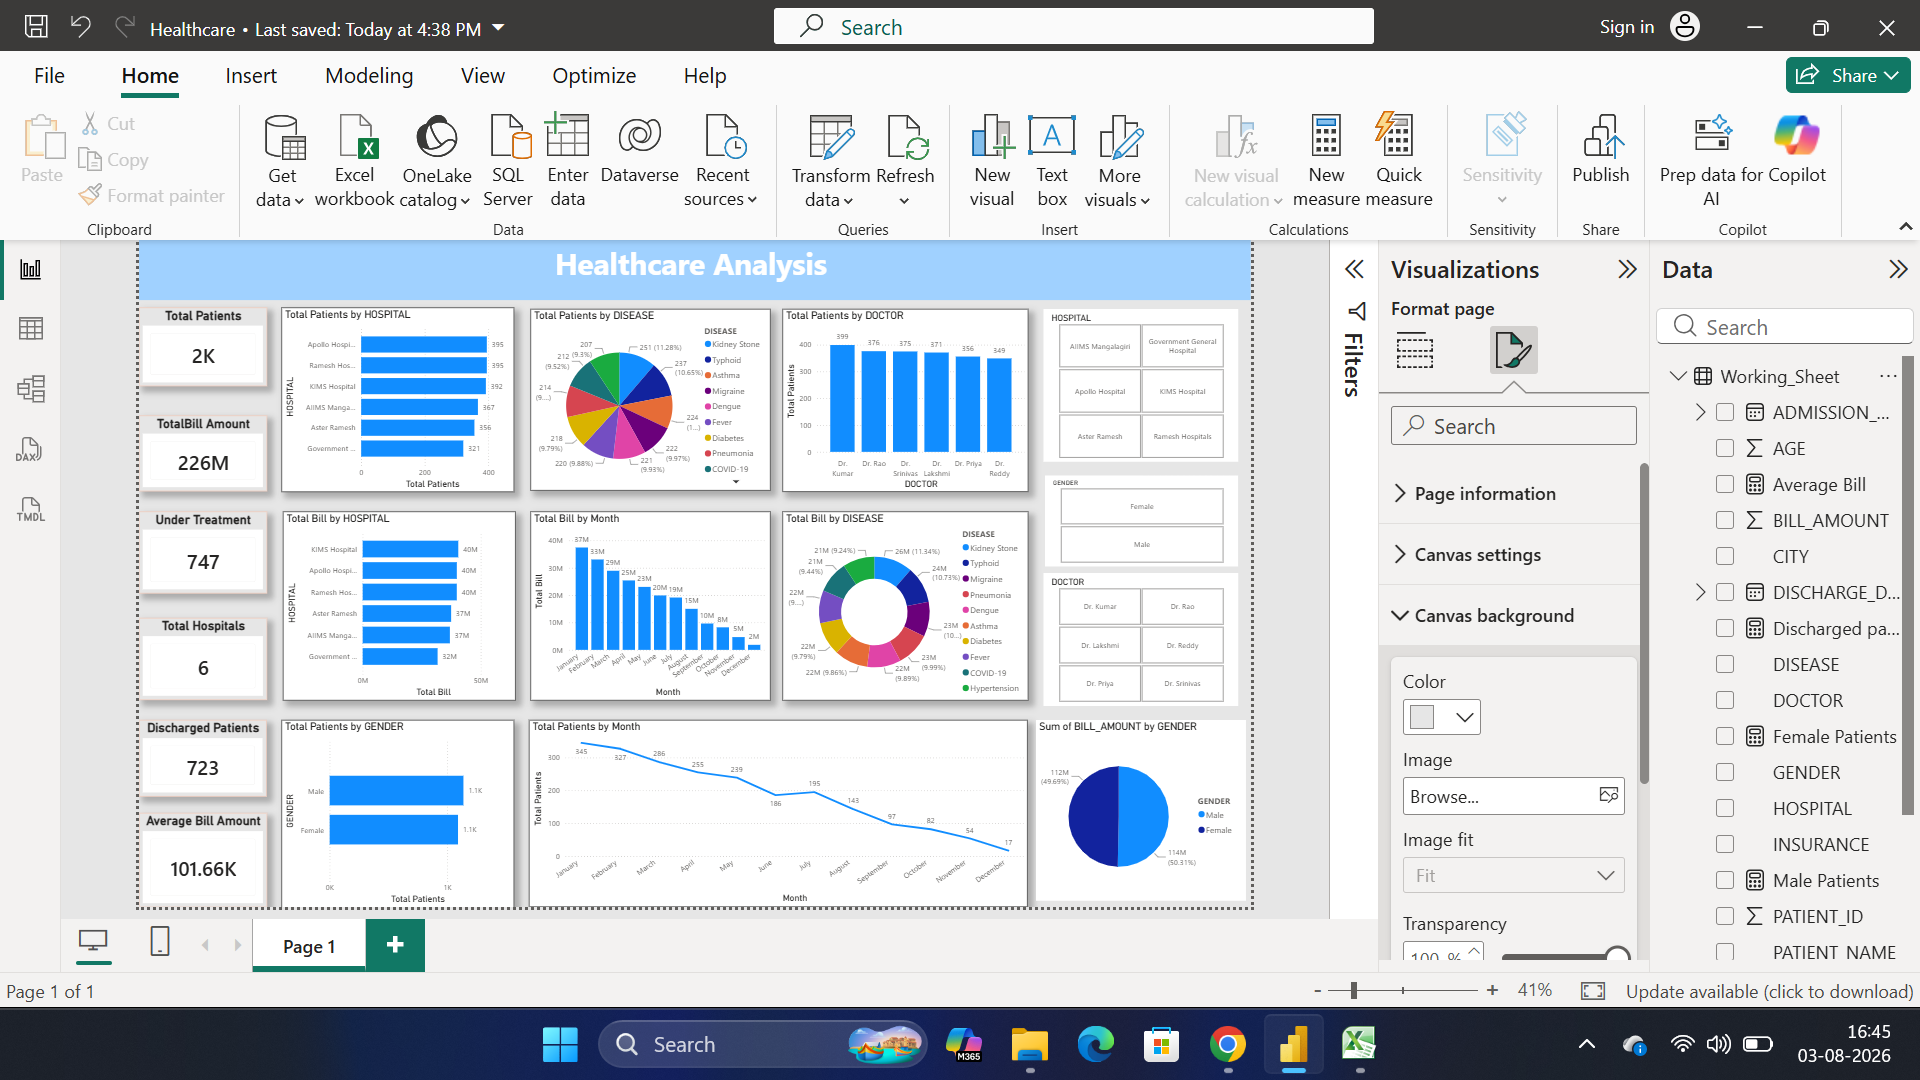

What the dashboard file says about the page in this screenshot:
{"tool":"powerbi","page":{"name":"Page 1","canvas":[1800,1080],"ordinal":0},"visuals":[{"type":"textbox","box":[0,0,1800,97.5],"z":0},{"type":"cardVisual","title":"Total Patients","fields":{"Data":["Working_Sheet.Total Patients"]},"box":[0,110,207.5,127.5],"z":1000},{"type":"cardVisual","title":"TotalBill Amount","fields":{"Data":["Working_Sheet.Total Bill"]},"box":[0,285,207.5,122.5],"z":2000},{"type":"cardVisual","title":"Total Hospitals","fields":{"Data":["Count(Working_Sheet.HOSPITAL)"]},"box":[0,612.5,207.5,132.5],"z":3000},{"type":"cardVisual","title":"Under Treatment","fields":{"Data":["Working_Sheet.Under Treatment"]},"box":[0,440,207.5,132.5],"z":4000},{"type":"barChart","fields":{"Category":["Working_Sheet.HOSPITAL"],"Y":["Working_Sheet.Total Patients"]},"box":[230.7,109.3,376.5,298.7],"z":5000},{"type":"donutChart","fields":{"Category":["Working_Sheet.DISEASE"],"Y":["Working_Sheet.Total Bill"]},"box":[1042,439.6,398.3,306],"z":6000},{"type":"clusteredColumnChart","fields":{"Category":["Working_Sheet.DOCTOR"],"Y":["Working_Sheet.Total Patients"]},"box":[1042,111.7,398.3,296.3],"z":7000},{"type":"lineChart","fields":{"Category":["Working_Sheet.ADMISSION_DATE.Variation.Date Hierarchy.Month"],"Y":["Working_Sheet.Total Patients"]},"box":[632.5,777.5,807.5,302.5],"z":8000},{"type":"cardVisual","title":"Discharged Patients","fields":{"Data":["Working_Sheet.Discharged patients"]},"box":[0,777.2,206.5,123.9],"z":9000},{"type":"pieChart","fields":{"Y":["Working_Sheet.Total Patients"],"Category":["Working_Sheet.DISEASE"]},"box":[633.9,111.7,388.6,293.9],"z":10000},{"type":"barChart","fields":{"Category":["Working_Sheet.HOSPITAL"],"Y":["Working_Sheet.Total Bill"]},"box":[233.2,439.6,376.5,306],"z":11000},{"type":"clusteredColumnChart","fields":{"Y":["Working_Sheet.Total Bill"],"Category":["Working_Sheet.ADMISSION_DATE.Variation.Date Hierarchy.Month"]},"box":[633.9,439.6,388.6,306],"z":12000},{"type":"barChart","fields":{"Category":["Working_Sheet.GENDER"],"Y":["Working_Sheet.Total Patients"]},"box":[231.2,776.6,377,304.1],"z":13000},{"type":"slicer","fields":{"Values":["Working_Sheet.DOCTOR"]},"box":[1465,540,315,215],"z":14000},{"type":"slicer","fields":{"Values":["Working_Sheet.GENDER"]},"box":[1467.5,382.5,312.5,147.5],"z":15000},{"type":"slicer","fields":{"Values":["Working_Sheet.HOSPITAL"]},"box":[1465,112.5,315,247.5],"z":16000},{"type":"cardVisual","title":"Average Bill Amount","fields":{"Data":["Working_Sheet.Average Bill"]},"box":[0,927.5,207.5,152.5],"z":17000},{"type":"pieChart","fields":{"Category":["Working_Sheet.GENDER"],"Y":["Sum(Working_Sheet.BILL_AMOUNT)"]},"box":[1452.5,777.5,340,292.5],"z":18000}]}

Visuals, with their boxes on the page's 1800x1080 design canvas (x1, y1, x2, y2). These are canvas units, not pixel positions in the 1920x1080 screenshot, which may show the page scaled, cropped or inside an application window:
textbox: Rect(0, 0, 1800, 98)
"Total Patients" cardVisual: Rect(0, 110, 208, 238)
"TotalBill Amount" cardVisual: Rect(0, 285, 208, 408)
"Total Hospitals" cardVisual: Rect(0, 612, 208, 745)
"Under Treatment" cardVisual: Rect(0, 440, 208, 572)
barChart - Working_Sheet.HOSPITAL x Working_Sheet.Total Patients: Rect(231, 109, 607, 408)
donutChart - Working_Sheet.DISEASE x Working_Sheet.Total Bill: Rect(1042, 440, 1440, 746)
clusteredColumnChart - Working_Sheet.DOCTOR x Working_Sheet.Total Patients: Rect(1042, 112, 1440, 408)
lineChart - Working_Sheet.ADMISSION_DATE.Variation.Date Hierarchy.Month x Working_Sheet.Total Patients: Rect(632, 778, 1440, 1080)
"Discharged Patients" cardVisual: Rect(0, 777, 206, 901)
pieChart - Working_Sheet.Total Patients x Working_Sheet.DISEASE: Rect(634, 112, 1022, 406)
barChart - Working_Sheet.HOSPITAL x Working_Sheet.Total Bill: Rect(233, 440, 610, 746)
clusteredColumnChart - Working_Sheet.Total Bill x Working_Sheet.ADMISSION_DATE.Variation.Date Hierarchy.Month: Rect(634, 440, 1022, 746)
barChart - Working_Sheet.GENDER x Working_Sheet.Total Patients: Rect(231, 777, 608, 1081)
slicer - Working_Sheet.DOCTOR: Rect(1465, 540, 1780, 755)
slicer - Working_Sheet.GENDER: Rect(1468, 382, 1780, 530)
slicer - Working_Sheet.HOSPITAL: Rect(1465, 112, 1780, 360)
"Average Bill Amount" cardVisual: Rect(0, 928, 208, 1080)
pieChart - Working_Sheet.GENDER x Sum(Working_Sheet.BILL_AMOUNT): Rect(1452, 778, 1792, 1070)
